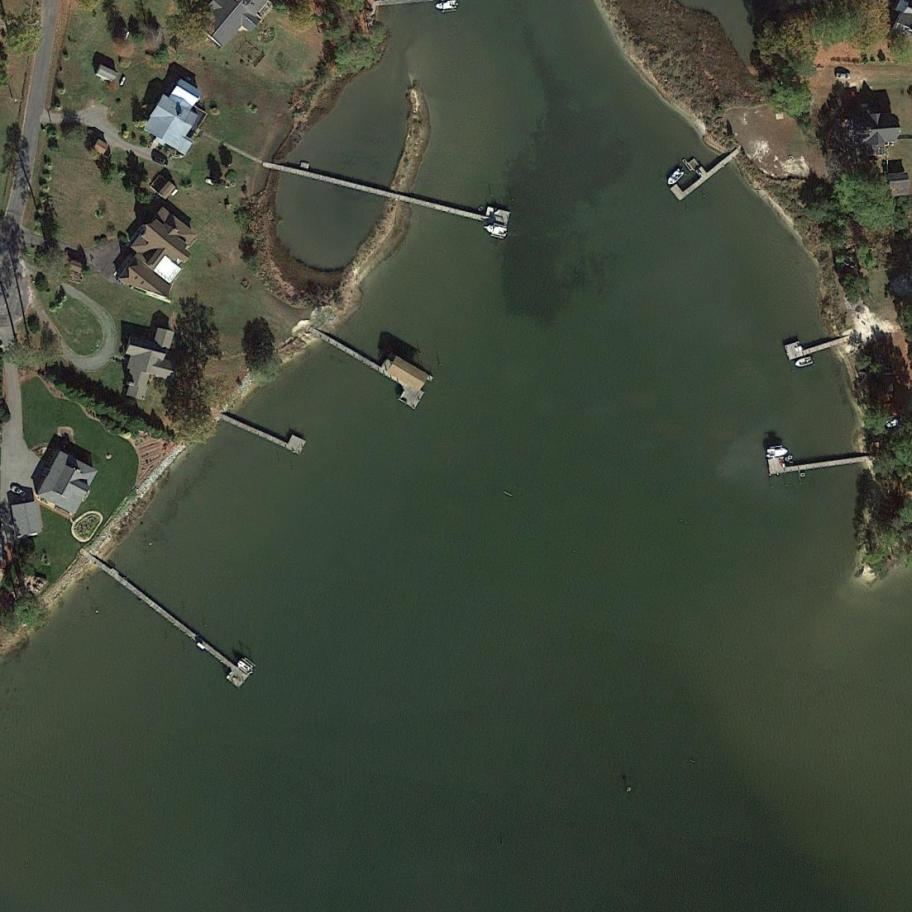ship: (480, 220, 511, 241), (663, 165, 688, 190), (792, 354, 817, 372), (434, 0, 458, 14), (235, 659, 254, 676), (766, 447, 789, 458)
small-vehicle: (151, 151, 171, 166)
